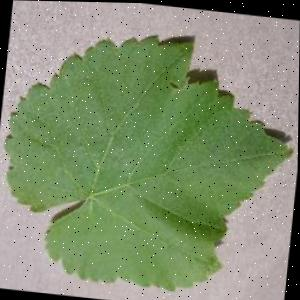Folha: (0, 14, 300, 300)
